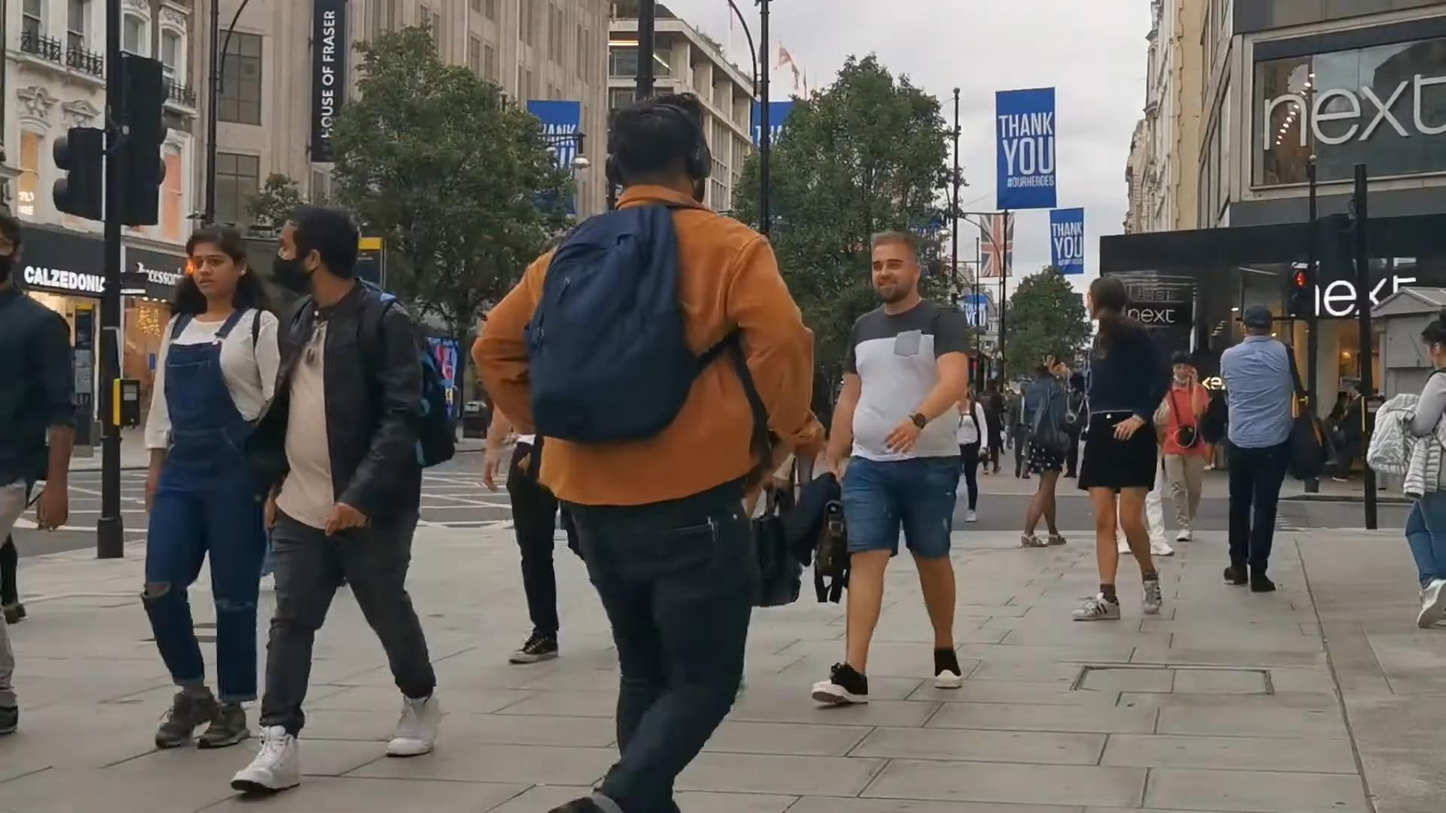no-helmet: (604, 95, 713, 204), (274, 202, 359, 296), (176, 222, 260, 304), (869, 230, 922, 306), (1086, 276, 1127, 326), (1420, 308, 1446, 370), (1242, 304, 1273, 337), (1172, 351, 1194, 385)
